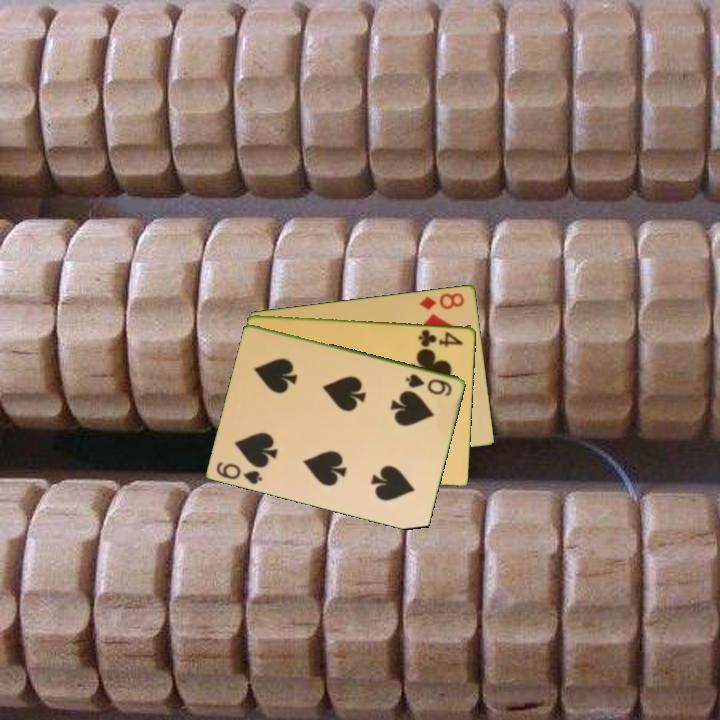4c: (415, 326, 467, 349)
6s: (402, 370, 455, 399), (213, 458, 266, 487)
8d: (416, 289, 467, 312)
